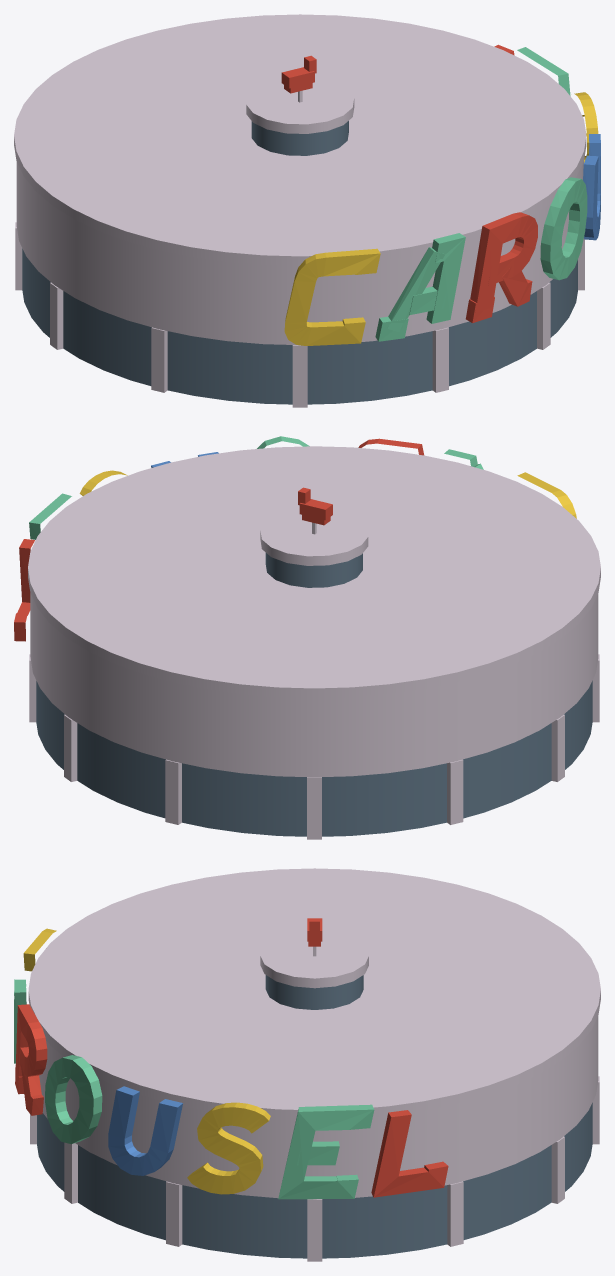
File: nyc-bb-carousell.glb
3 views of the same model, one above another, from view 1: azimuth 30°, elevation 25°; view 2: azimuth 150°, elevation 25°; view 3: azimuth 270°, elevation 25° (orthographic).
Parts seen in each view (by area): view 1: B&B Carousell; view 2: B&B Carousell; view 3: B&B Carousell.
Boxes of the visible parts, x1,y1,x2,y2 form: B&B Carousell: (14, 14, 600, 407); B&B Carousell: (14, 436, 600, 839); B&B Carousell: (14, 868, 600, 1261).
Size of the model in its own units: 27.52 by 11.7 by 27.52.
